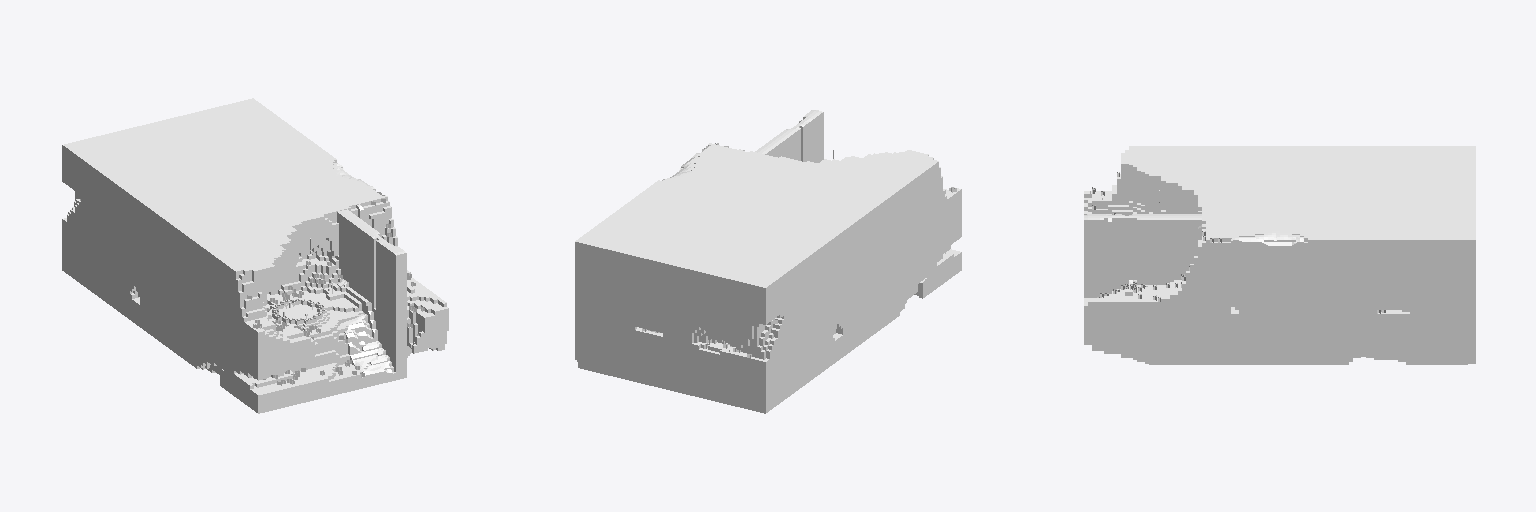
3 views of the same model, side by side, from view 1: azimuth 30°, elevation 25°; view 2: azimuth 150°, elevation 25°; view 3: azimuth 270°, elevation 25° (orthographic).
Visible parts, largest first — view 1: Floral_Caves_Hunt__-41_66_-65_to_12_99_30; view 2: Floral_Caves_Hunt__-41_66_-65_to_12_99_30; view 3: Floral_Caves_Hunt__-41_66_-65_to_12_99_30.
Part boxes in pixels (bbox=[...]): Floral_Caves_Hunt__-41_66_-65_to_12_99_30: bbox=[62, 98, 448, 413]; Floral_Caves_Hunt__-41_66_-65_to_12_99_30: bbox=[575, 110, 961, 413]; Floral_Caves_Hunt__-41_66_-65_to_12_99_30: bbox=[1084, 146, 1475, 364].
Bounding box in the file's own units: 54.11 × 34 × 96.19.